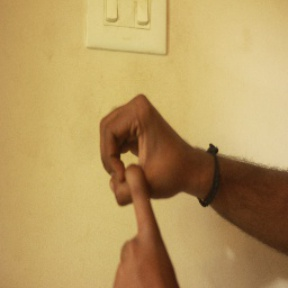Q: (92, 91, 191, 288)
